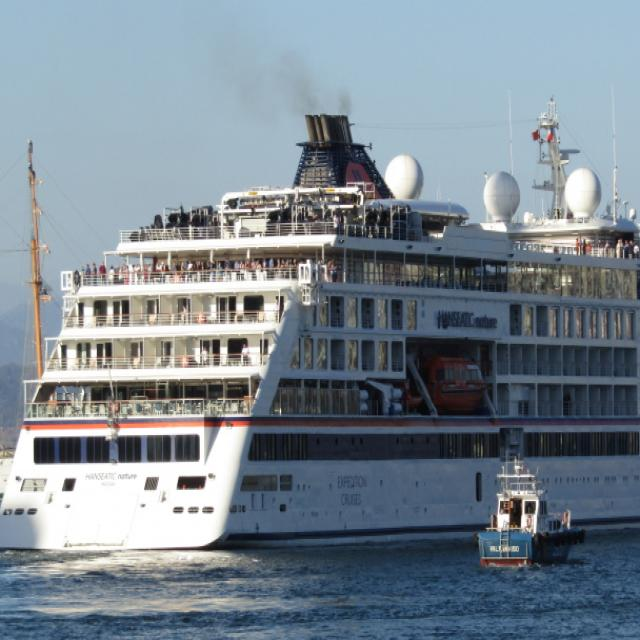cruises: (1, 104, 640, 551)
